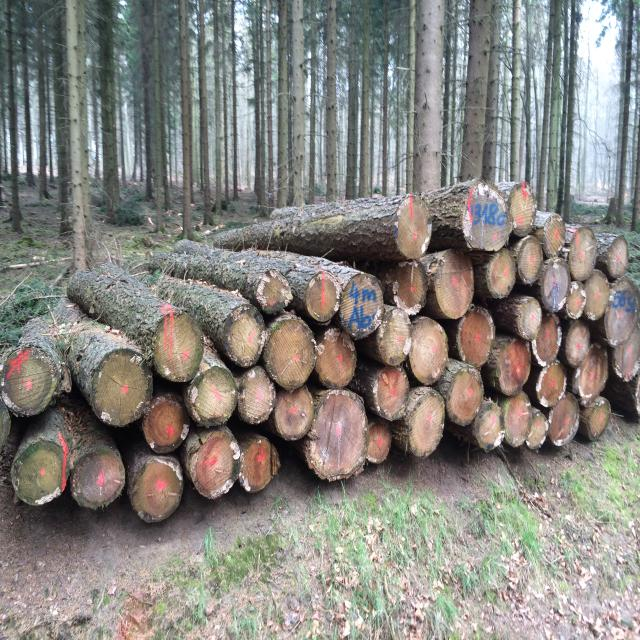wood-log: (305, 388, 369, 482), (90, 348, 152, 427), (0, 345, 59, 417), (261, 315, 316, 390), (129, 455, 184, 522), (152, 312, 204, 382), (11, 440, 66, 505), (189, 428, 240, 498), (462, 180, 511, 252), (70, 447, 125, 508), (338, 272, 384, 340), (186, 367, 238, 425), (143, 393, 190, 453), (434, 250, 474, 318), (409, 318, 448, 385), (222, 307, 265, 367), (604, 277, 640, 347), (315, 327, 356, 388), (409, 388, 445, 457), (394, 195, 431, 258), (458, 305, 495, 368), (236, 367, 276, 425), (572, 343, 609, 405), (239, 437, 280, 492), (446, 367, 484, 425), (274, 385, 314, 440), (391, 260, 429, 315), (376, 307, 411, 365), (496, 337, 531, 395), (372, 367, 409, 420), (305, 270, 340, 325), (546, 392, 580, 447), (539, 258, 570, 313), (474, 400, 505, 452), (568, 225, 596, 282), (531, 313, 561, 365), (484, 248, 515, 298), (256, 270, 292, 313), (612, 327, 640, 382), (504, 392, 531, 447), (509, 182, 536, 237), (536, 362, 566, 407), (584, 270, 609, 322), (518, 235, 542, 285), (565, 320, 590, 367), (366, 418, 391, 463), (541, 213, 565, 258), (516, 297, 541, 340), (525, 408, 549, 450), (588, 397, 610, 440), (609, 237, 629, 278), (565, 282, 586, 318), (0, 398, 11, 452), (636, 373, 640, 415)
